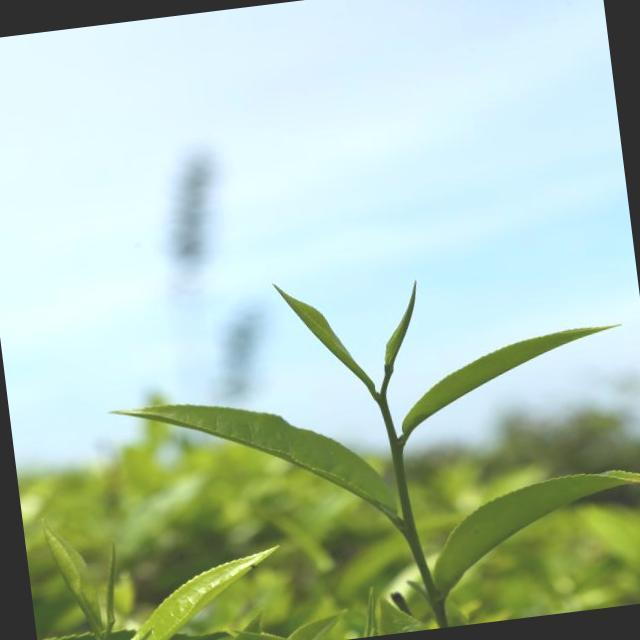Stem: (375, 396, 388, 409)
